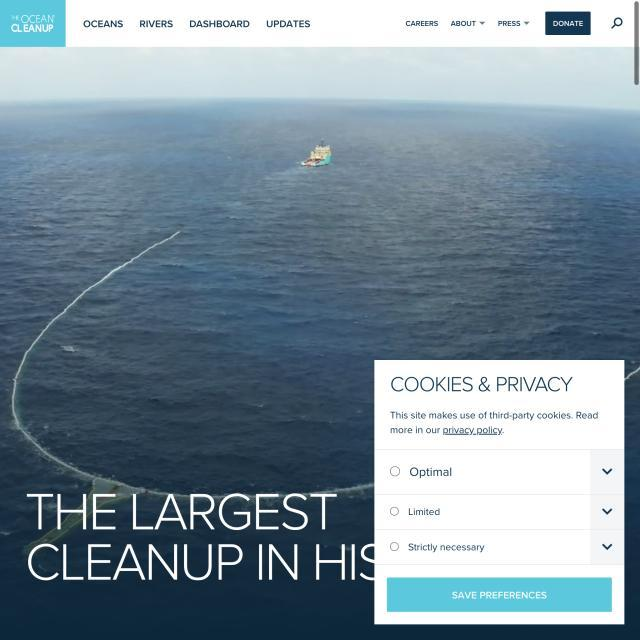button: (386, 574, 614, 614), (544, 10, 594, 38)
checkbox: (384, 536, 496, 562), (384, 452, 462, 489), (384, 497, 461, 530)
